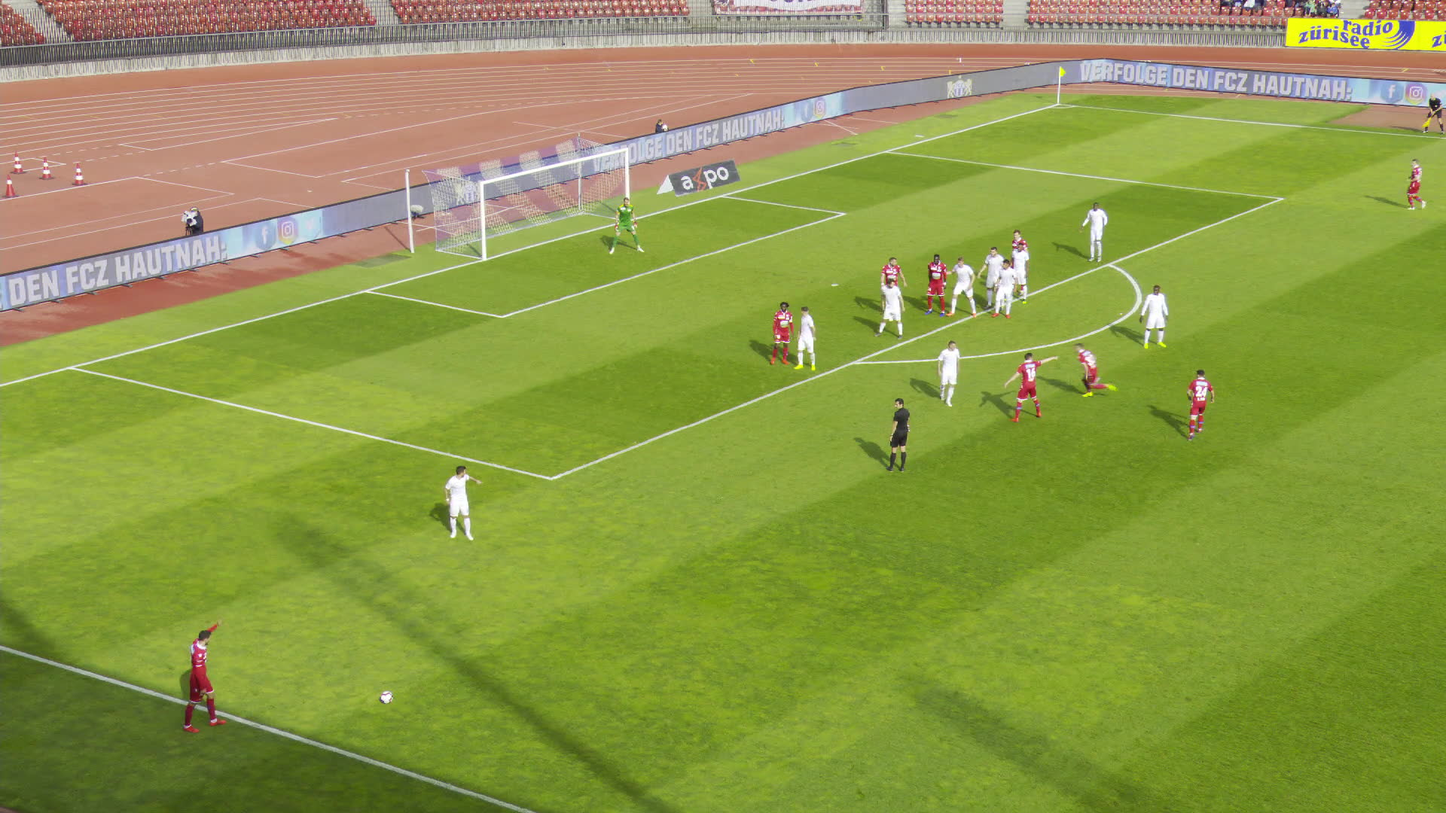ball: (380, 690, 393, 702)
player: (182, 613, 227, 732), (1004, 352, 1058, 422), (445, 464, 484, 540), (1080, 342, 1123, 400), (1186, 370, 1214, 440), (609, 197, 643, 254), (946, 257, 976, 318), (1138, 285, 1167, 348), (874, 278, 903, 339), (1077, 203, 1106, 263), (977, 246, 1004, 309), (792, 304, 817, 370), (937, 340, 961, 405), (991, 259, 1017, 318), (923, 254, 947, 315), (770, 300, 792, 364), (1405, 158, 1429, 210), (1008, 229, 1027, 294), (880, 256, 907, 299), (1009, 242, 1028, 303)
referee: (886, 397, 911, 471), (1422, 93, 1444, 133)
